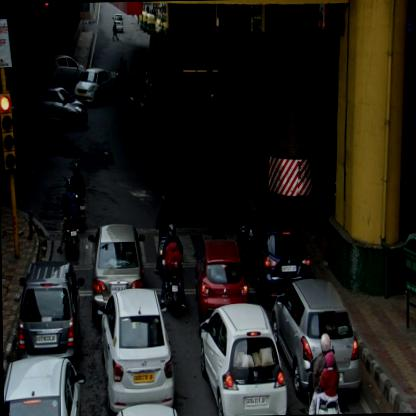bus: (144, 32, 222, 89)
car: (271, 277, 363, 398), (196, 300, 286, 416), (97, 288, 176, 415), (235, 209, 312, 305), (16, 258, 87, 362), (87, 224, 146, 322), (2, 354, 86, 415), (193, 239, 248, 319), (27, 85, 87, 131), (235, 98, 269, 150), (42, 51, 84, 89), (74, 67, 112, 107), (112, 13, 123, 30)
motorcycle: (305, 332, 342, 414), (158, 223, 186, 318), (55, 177, 81, 258), (152, 196, 176, 270), (66, 161, 86, 229), (126, 80, 150, 120), (113, 56, 130, 92)
